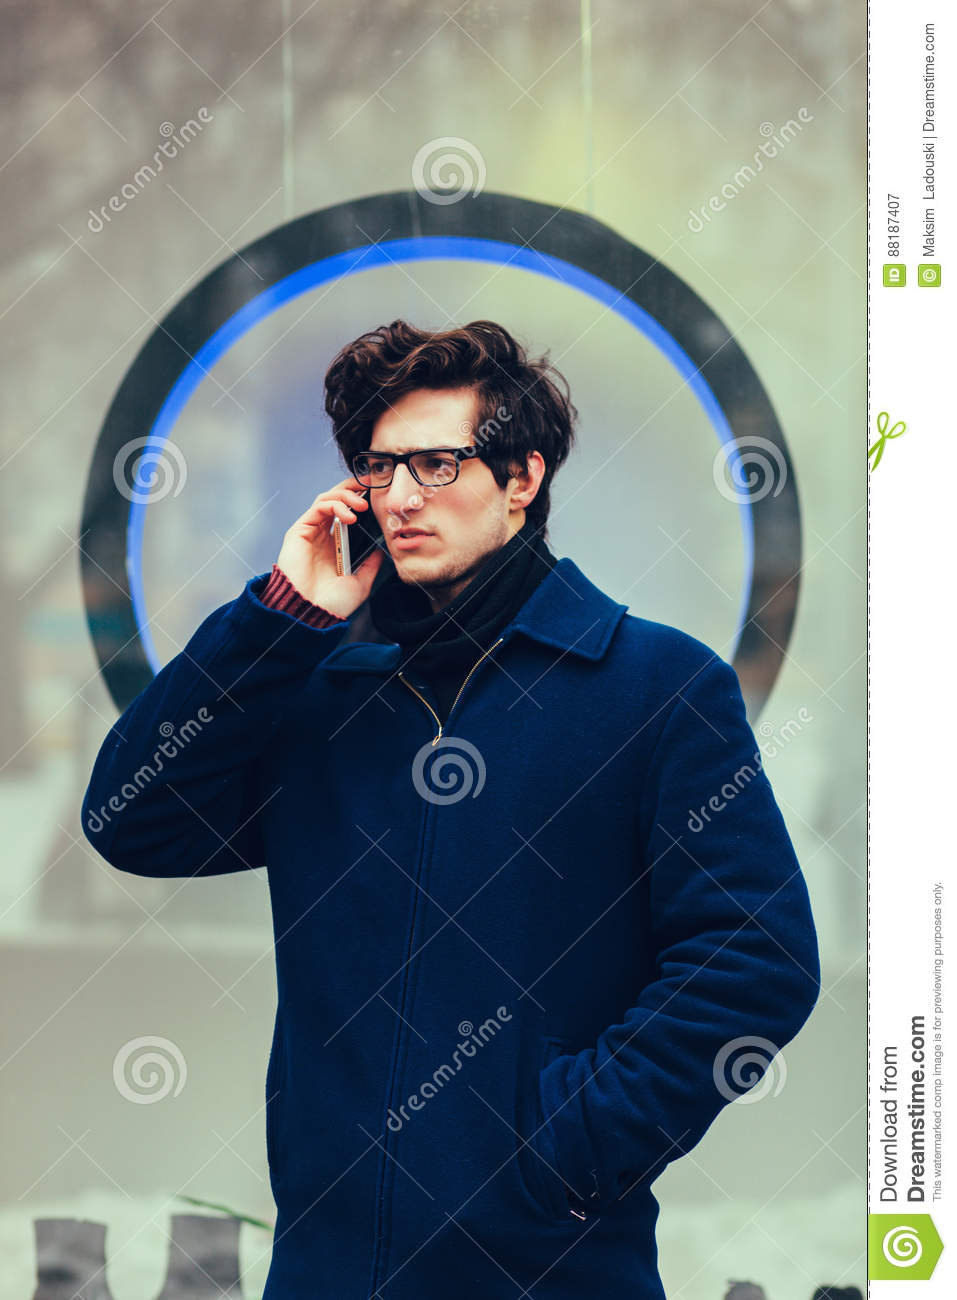phone: (334, 484, 384, 578)
talk: (277, 440, 472, 617)
